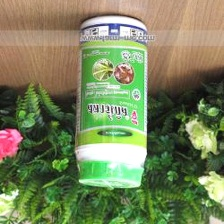insecticide: (72, 12, 152, 191)
